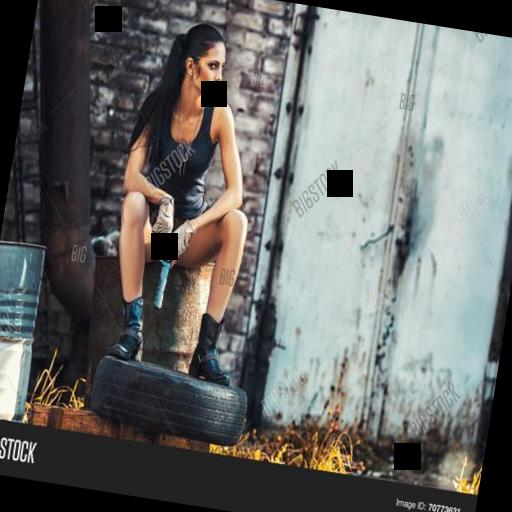Handgun: (138, 220, 178, 308)
